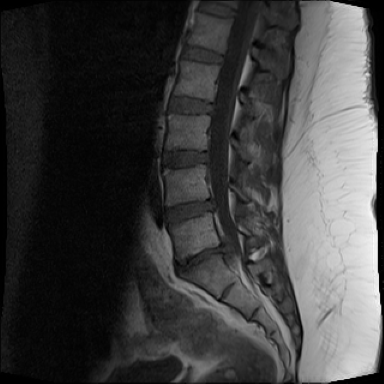Lumbar Disc Bulge (LDB): (165, 239, 240, 279), (160, 191, 223, 232)
Normal IVD: (158, 143, 215, 173), (164, 91, 217, 119), (182, 46, 227, 67), (196, 0, 240, 20)
Spinal Stenosis (SS): (216, 239, 241, 262), (205, 191, 220, 219)
